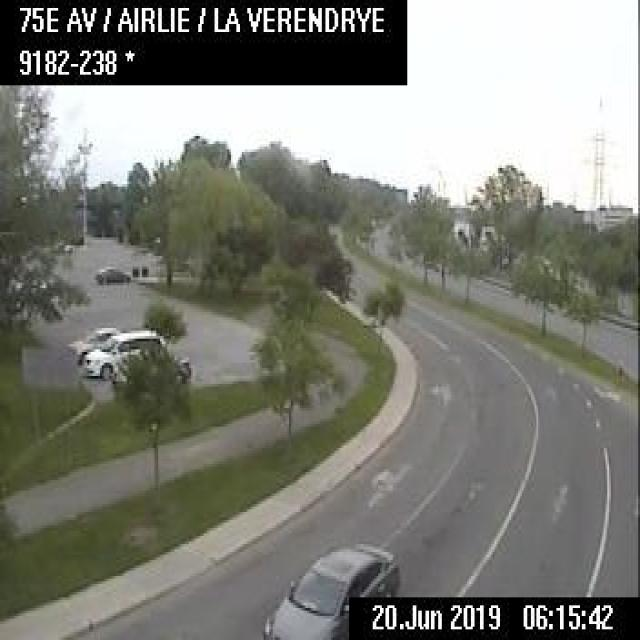vehicle: (258, 536, 402, 638), (81, 328, 165, 378), (71, 326, 120, 362), (159, 350, 189, 380), (94, 264, 129, 282)
